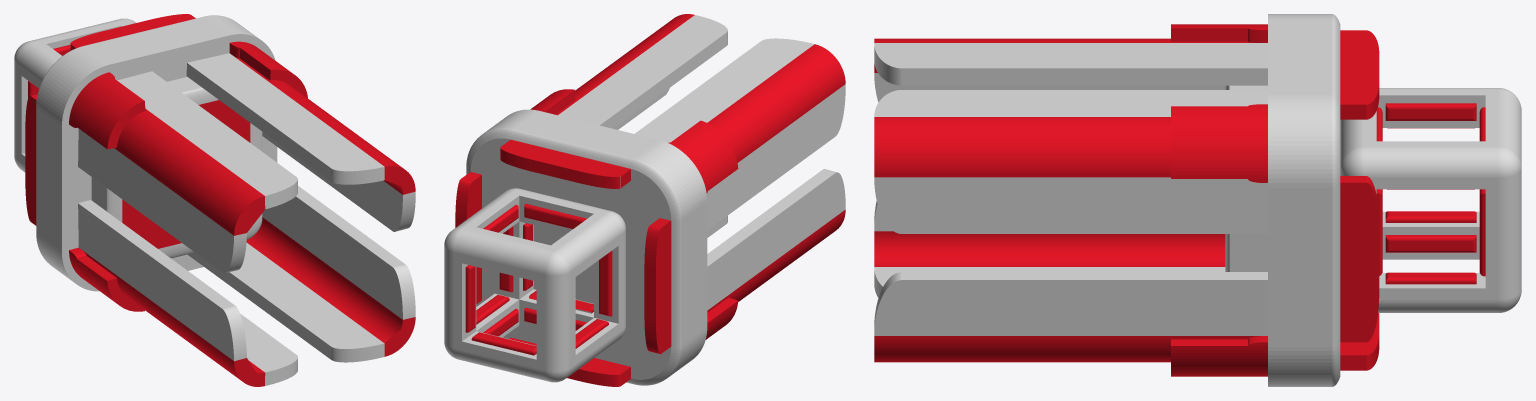
File: slider_turret_head.fbx
The picture shows the model from 3 angles, left to right: view 1: azimuth 30°, elevation 25°; view 2: azimuth 150°, elevation 25°; view 3: azimuth 270°, elevation 25°; orthographic projection. The views are drawn at different scales.
Visible parts, largest first — view 1: Cube; view 2: Cube; view 3: Cube.
Part boxes in pixels (<box>): Cube: <box>14,14,415,386</box>; Cube: <box>444,14,845,386</box>; Cube: <box>874,14,1521,386</box>.
Size of the model in its own units: 200 by 200 by 411.
